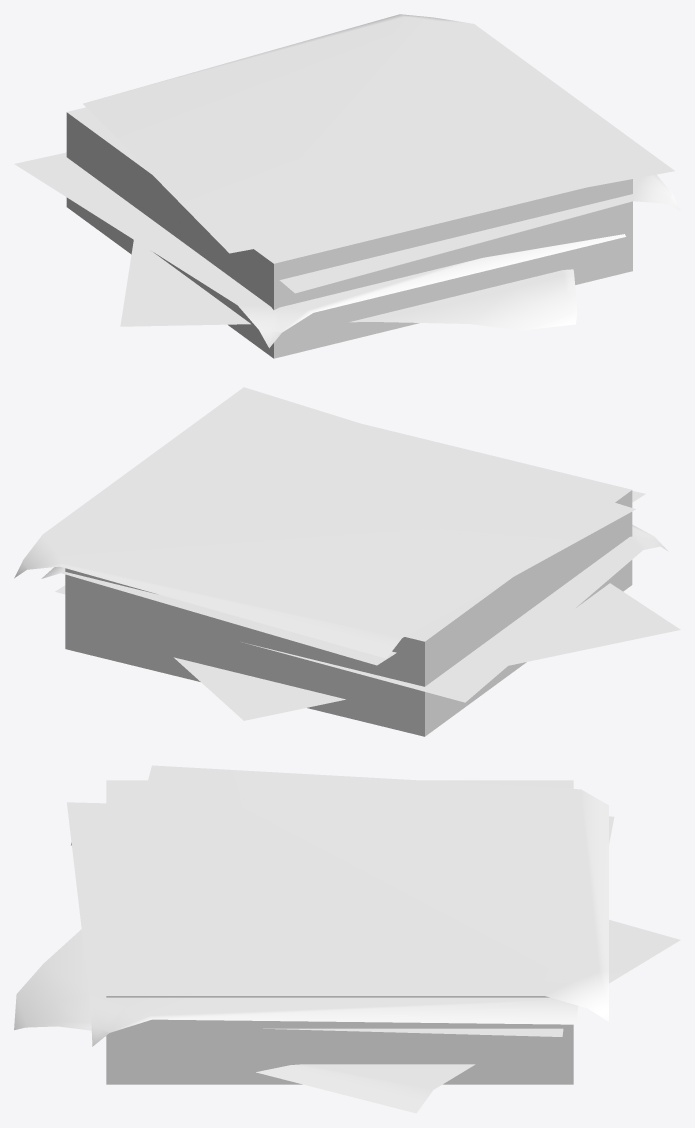
The model's file is serv 1.fbx.
3 renders of one model, top to bottom at view 1: azimuth 30°, elevation 25°; view 2: azimuth 150°, elevation 25°; view 3: azimuth 270°, elevation 25°, orthographic. The views are drawn at different scales.
Visible parts, largest first — view 1: pPlane2, pCube1, pPlane8, pPlane7, pPlane6; view 2: pPlane2, pCube1, pPlane8, pPlane7, pPlane6; view 3: pPlane2, pCube1, pPlane6, pPlane8, pPlane7.
Part boxes in pixels (bbox=[...]): pPlane2: bbox=[83, 14, 674, 253]; pCube1: bbox=[66, 107, 632, 358]; pPlane8: bbox=[120, 240, 577, 330]; pPlane7: bbox=[14, 152, 625, 348]; pPlane6: bbox=[279, 174, 680, 293]; pPlane2: bbox=[14, 387, 635, 658]; pCube1: bbox=[65, 424, 632, 736]; pPlane8: bbox=[174, 583, 680, 720]; pPlane7: bbox=[55, 524, 668, 702]; pPlane6: bbox=[41, 491, 645, 665]; pPlane2: bbox=[91, 765, 608, 1021]; pCube1: bbox=[106, 780, 573, 1084]; pPlane6: bbox=[67, 802, 614, 1046]; pPlane8: bbox=[14, 919, 680, 1113]; pPlane7: bbox=[71, 842, 563, 1036].
Bounding box in the file's own units: 9.64 × 1.69 × 9.42.
1 material, 1 textured.
